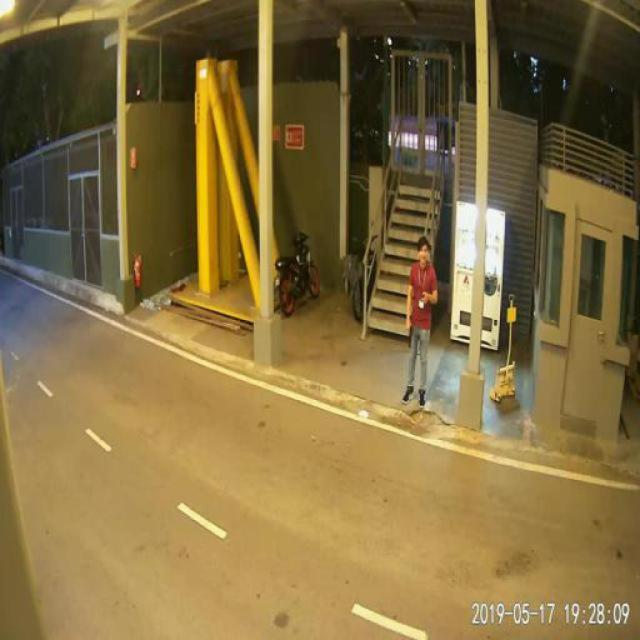pistol: (404, 322, 412, 348)
